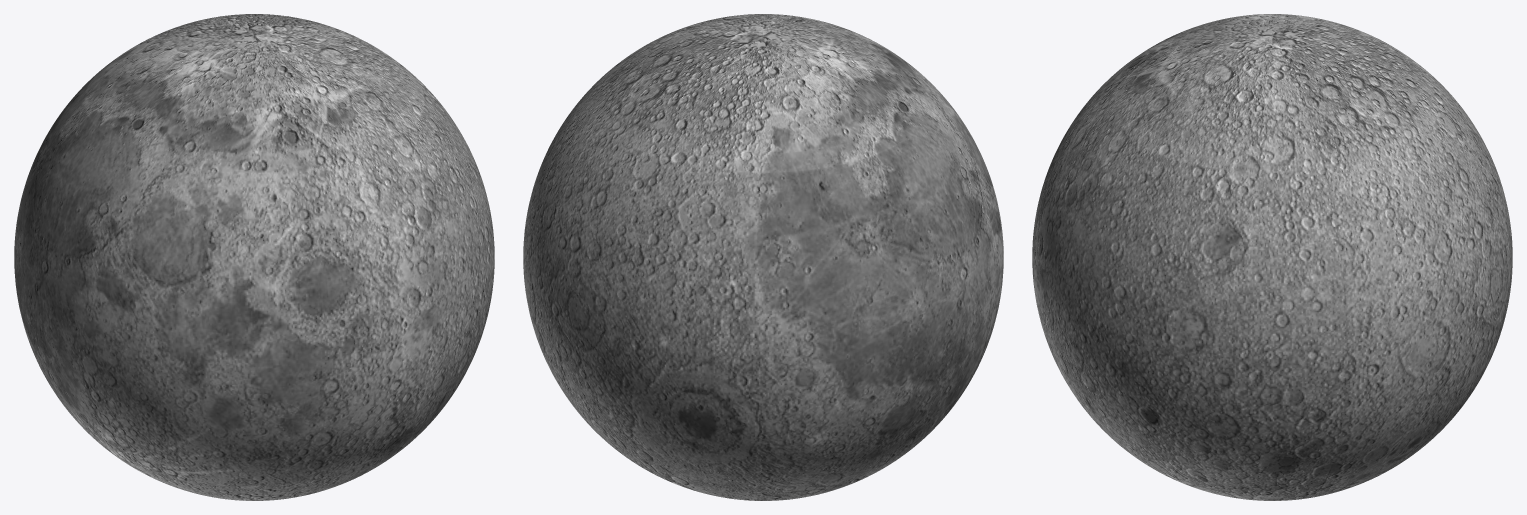
Rendered from park_ninja.glb.
3 renders of one model, left to right at view 1: azimuth 30°, elevation 25°; view 2: azimuth 150°, elevation 25°; view 3: azimuth 270°, elevation 25°, orthographic.
Visible parts, largest first — view 1: pSphere1; view 2: pSphere1; view 3: pSphere1.
Part boxes in pixels (x1,y1,x2,y2): pSphere1: (14, 14, 494, 500); pSphere1: (523, 14, 1003, 500); pSphere1: (1032, 14, 1512, 500).
Size of the model in its own units: 15.8 by 16.09 by 15.8.
Materials: 1 (1 with a texture image).
